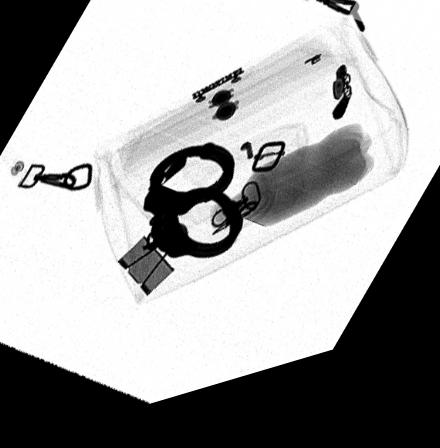HandCuffs: (141, 153, 242, 271)
